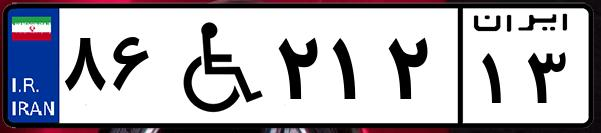1: (330, 28, 385, 110), (475, 38, 525, 113)
2: (270, 28, 330, 110), (385, 28, 445, 110)
3: (525, 38, 570, 115)
6: (110, 28, 158, 98)
8: (57, 26, 110, 100)
ژ (معلولین و جانبازان): (158, 12, 270, 120)
